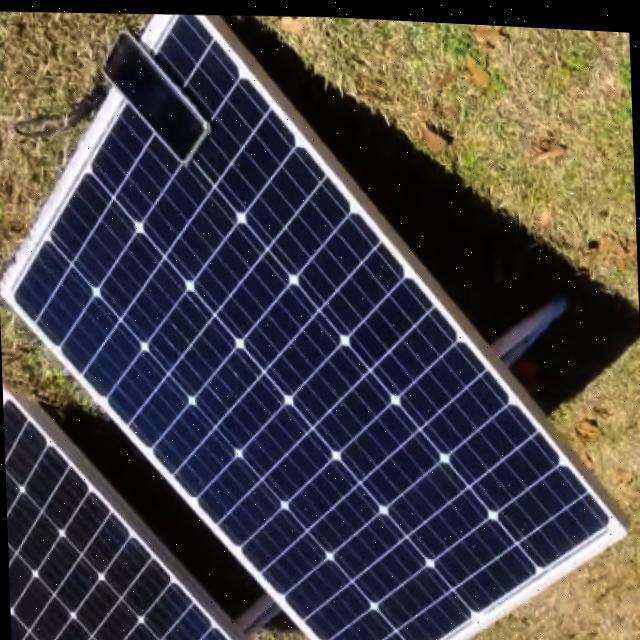Normal Solar Panel: (0, 0, 629, 640), (2, 391, 242, 640)
